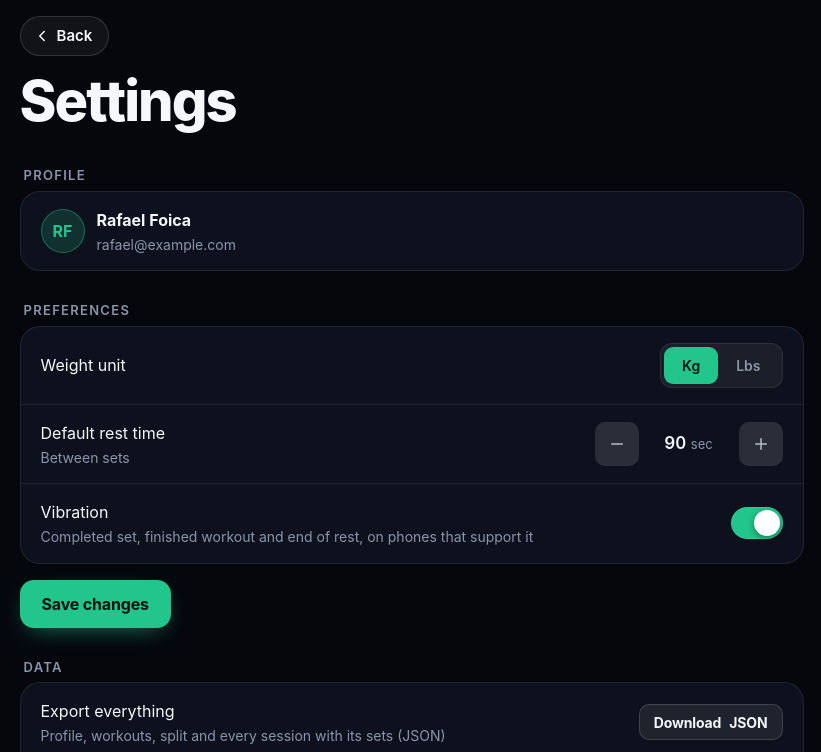
Test: SettingsPage › shows an error when a download fails
Expected: the heading "Settings" is shown, [20, 67, 236, 135]
Click the button "Download JSON" at (711, 722), box [639, 704, 782, 740]
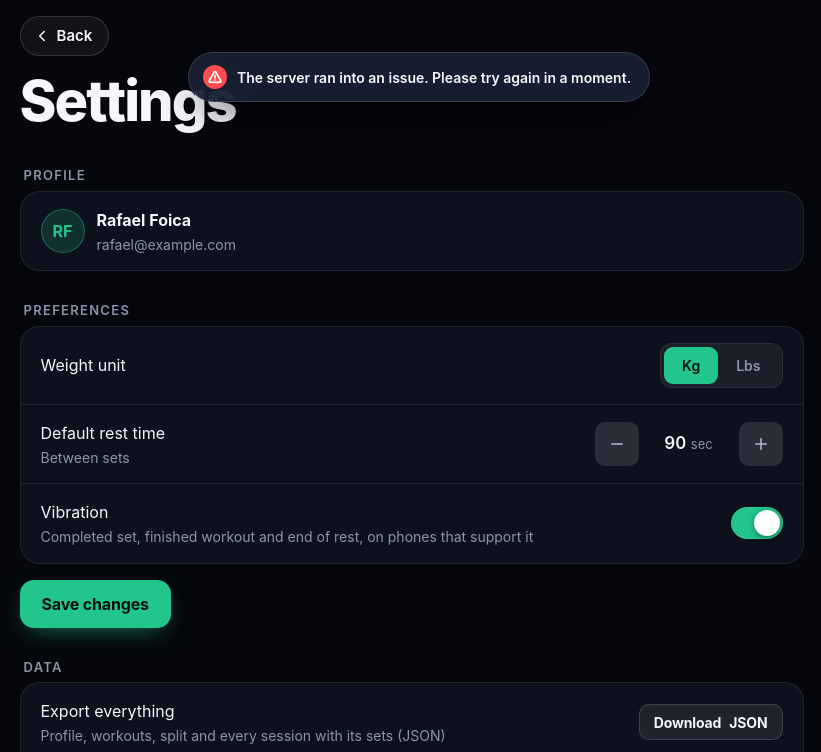
Expected: the text "The server ran into an issue. Please try again in a moment." is shown, [188, 52, 650, 102]
